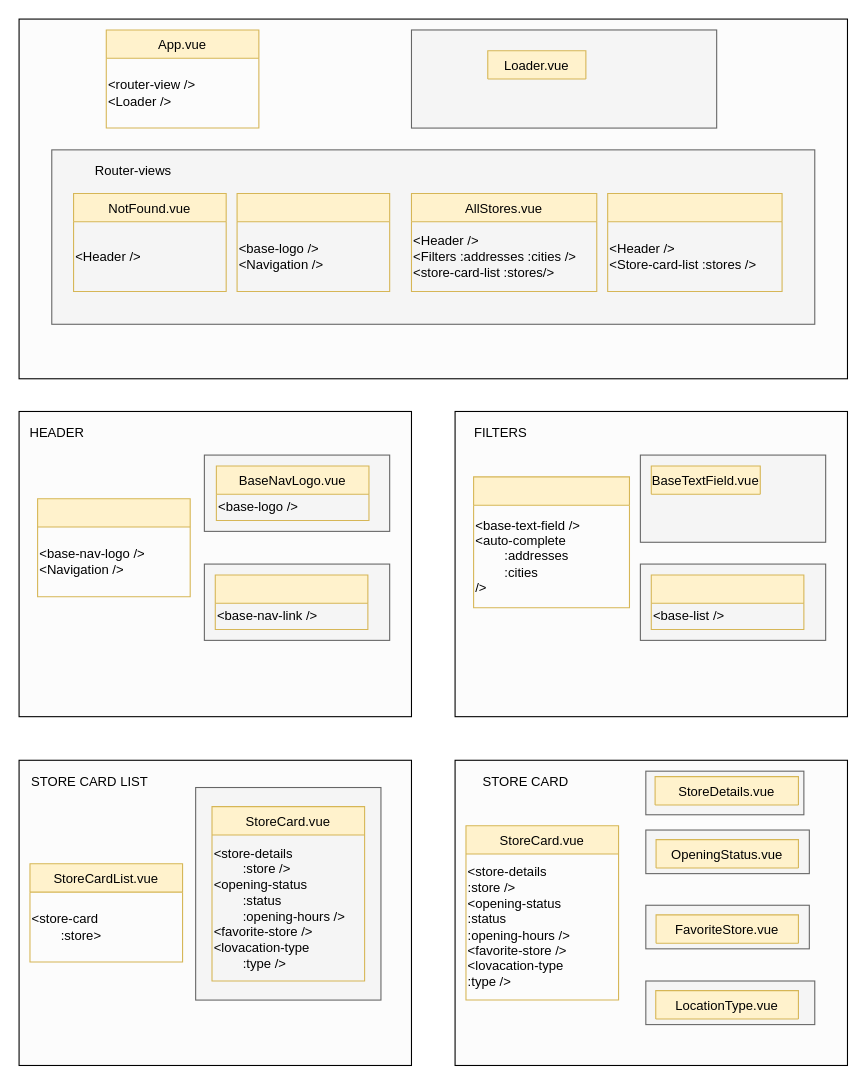
This 867x1085 diagram has some shape labels left out. Each missing label, with the box of its shape:
Autocomplete.vue: (650, 574, 804, 629)
FilteredByCities.vue: (607, 192, 782, 292)
Filters.vue: (473, 476, 629, 608)
Header.vue: (37, 498, 190, 597)
Home.vue: (236, 192, 390, 292)
Navigation.vue: (214, 574, 368, 629)
